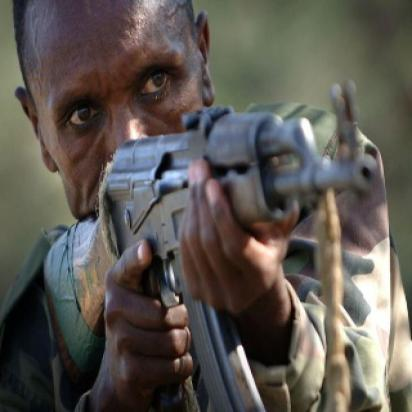Gun: (88, 80, 384, 411)
